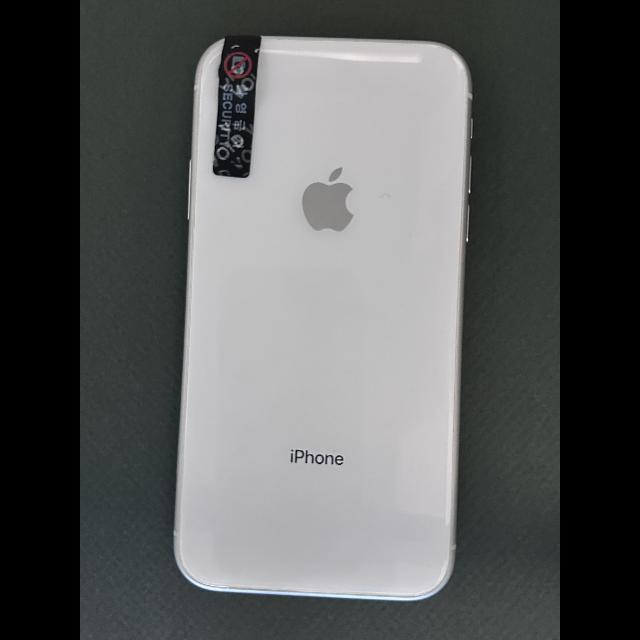lens: (218, 62, 221, 78)
phone: (173, 35, 473, 602)
sticker: (213, 36, 262, 179)
